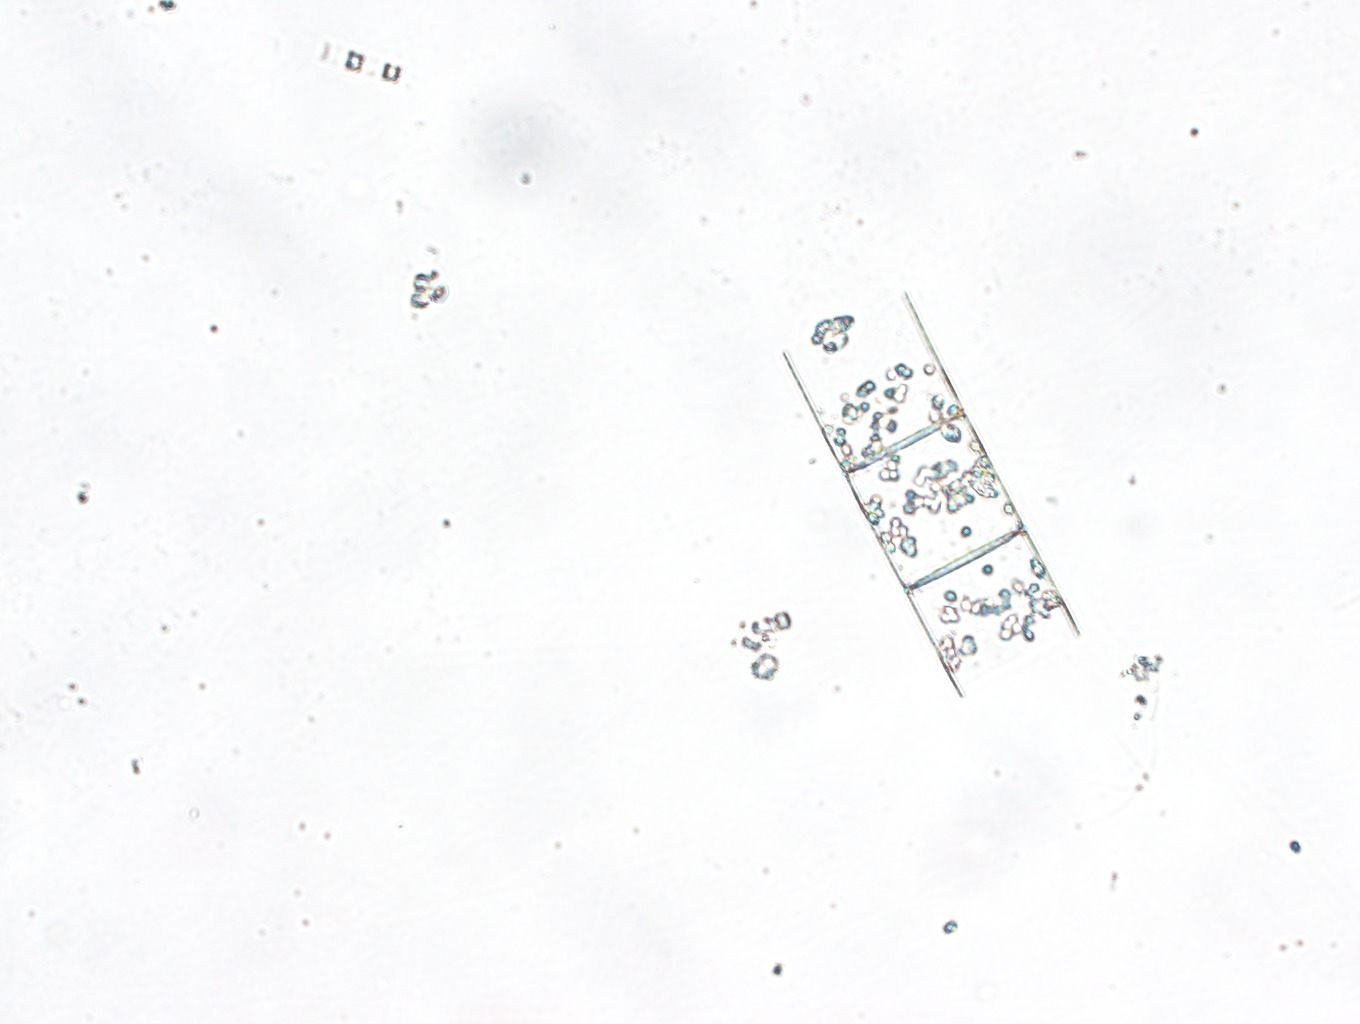guinardia flaccida: (784, 290, 1078, 697)
